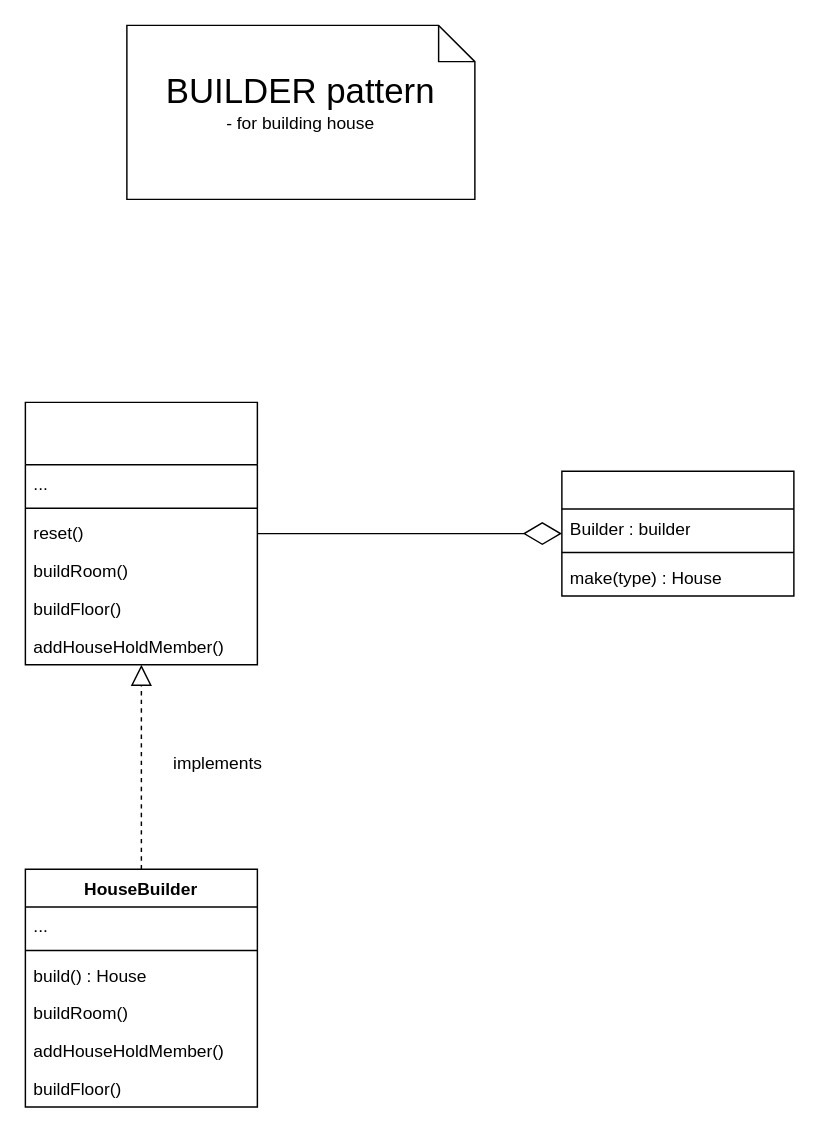
This 819x1137 diagram has some shape labels left out. Here are the shapes that lost their labels. From the top down, the box of each, then its label:
(24, 401, 257, 665): «interface» Builder
(560, 470, 794, 596): Director
